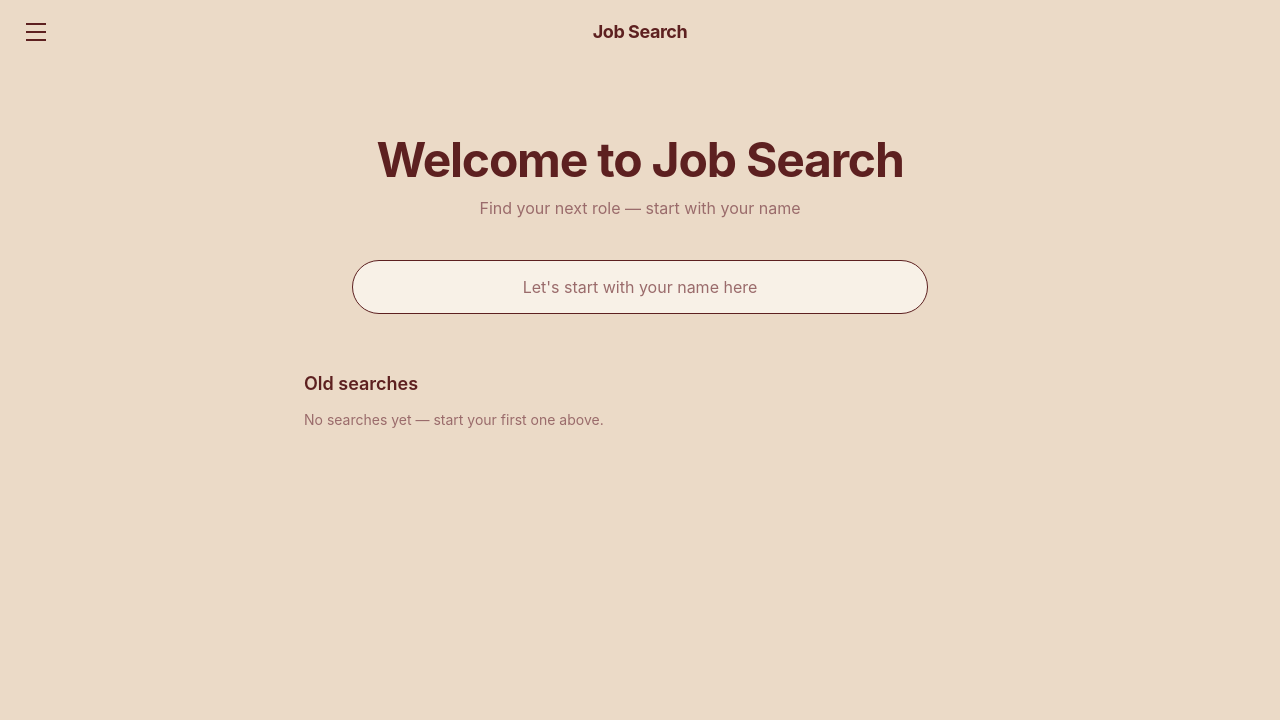
Scenario: welcome page (3.8i) › orders the drawer by task: profile, the two paths, the libraries, advanced
Click the button named "Open menu": {"x": 36, "y": 32} x1=16 y1=12 x2=56 y2=52
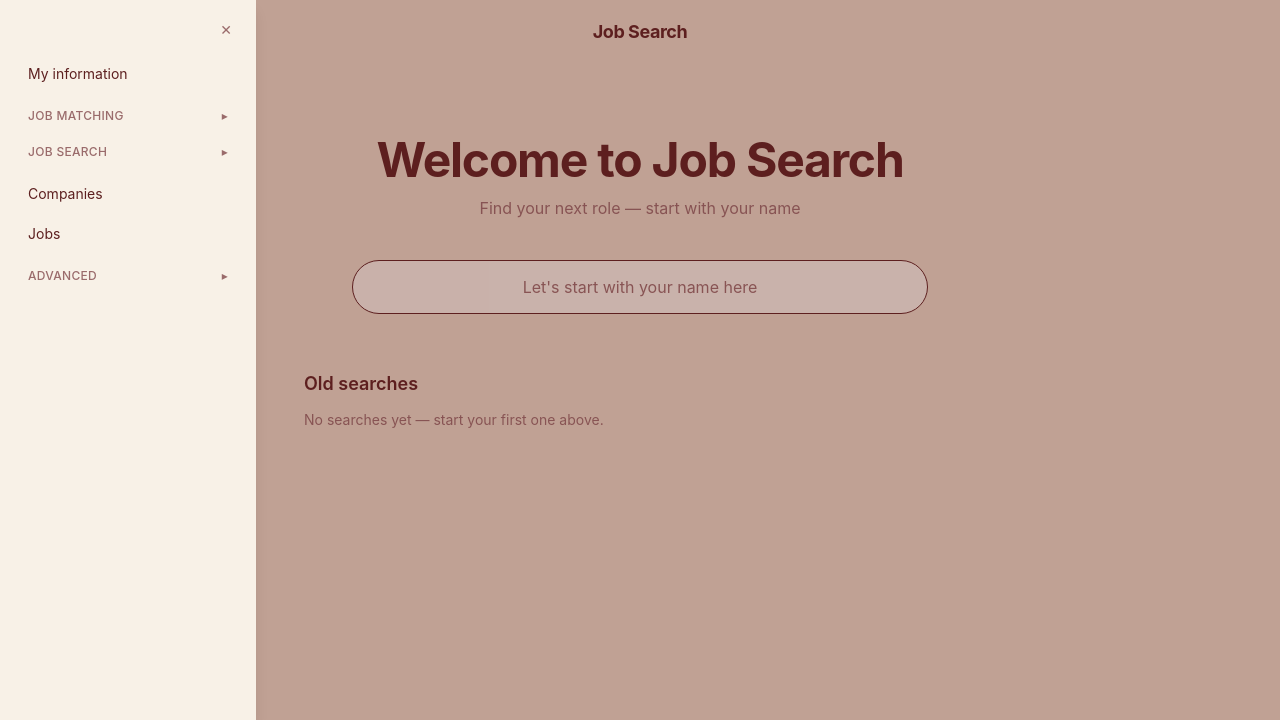
Check: the links read "My information", "Companies", "Jobs", in this order, box x1=28 y1=65 x2=128 y2=82; x1=28 y1=185 x2=103 y2=202; x1=28 y1=225 x2=60 y2=242
Click the button "Job search ▸": {"x": 128, "y": 152} x1=16 y1=140 x2=240 y2=164
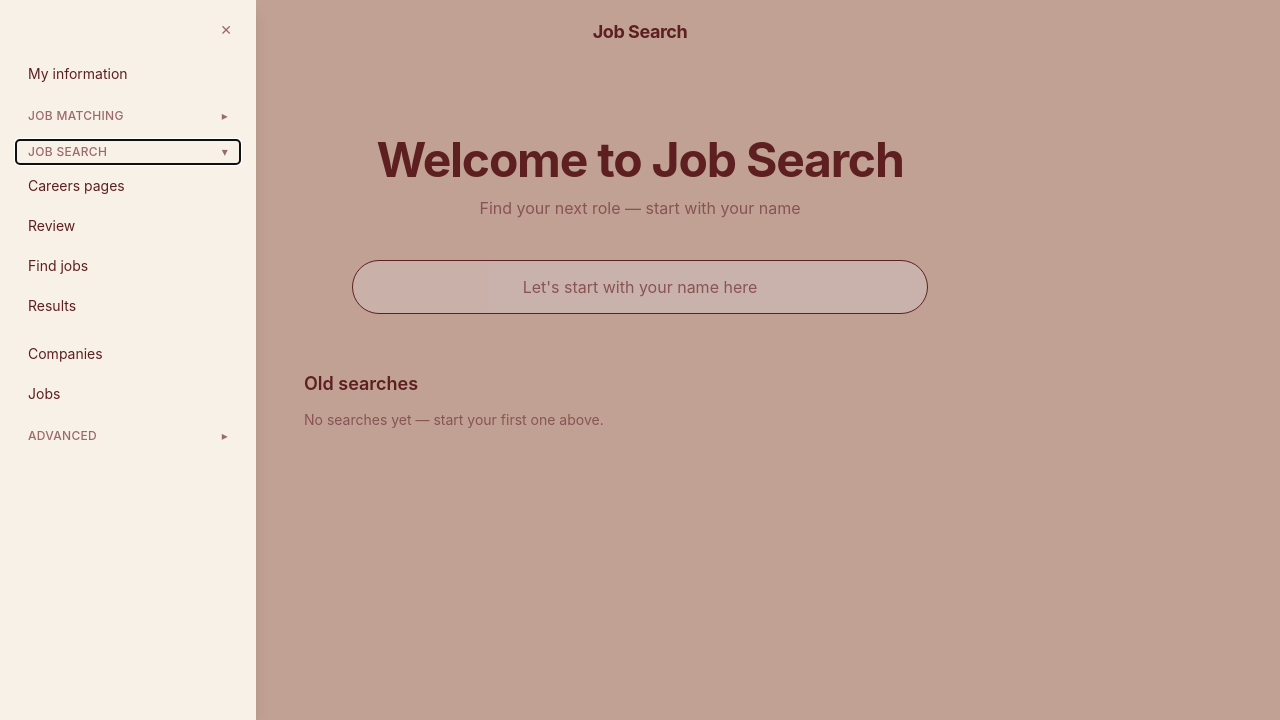
Click the button "Job search ▾": {"x": 128, "y": 152} x1=16 y1=140 x2=240 y2=164
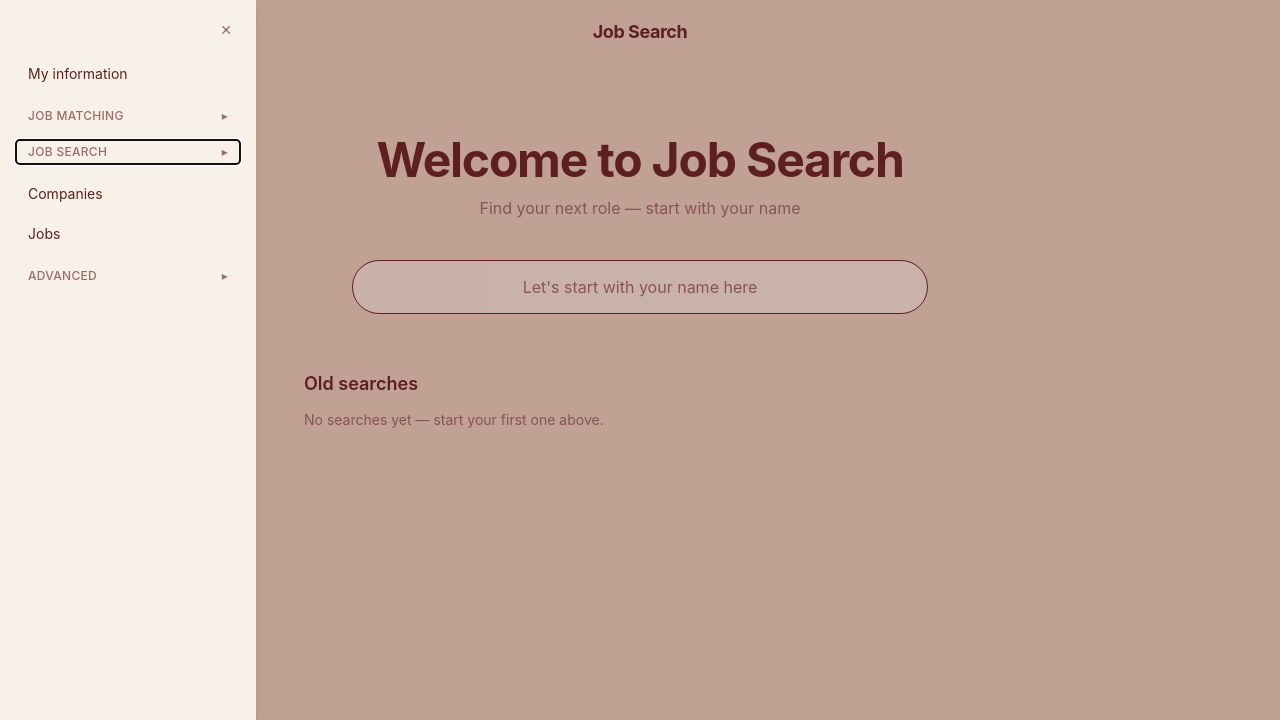
Check: the link "Careers pages" is gone
